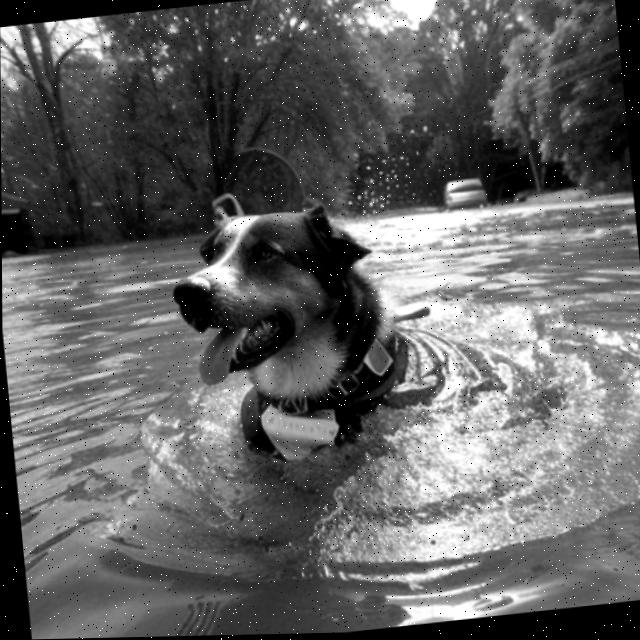dog: (156, 172, 513, 492)
